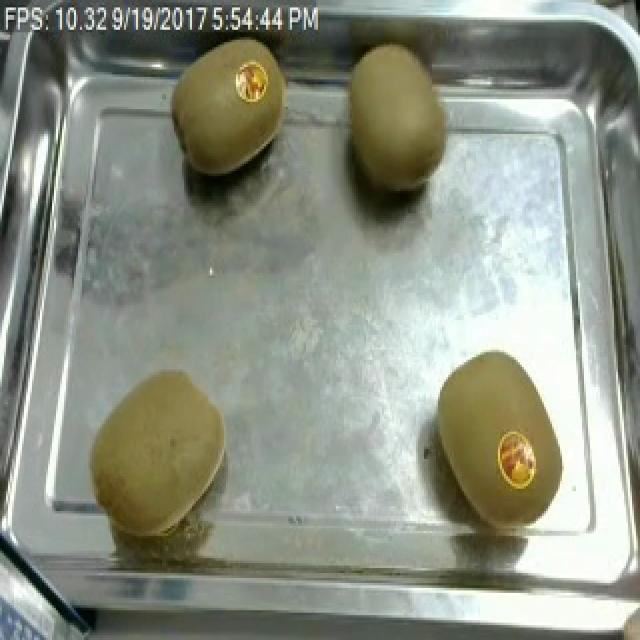Fruit: (80, 357, 236, 546), (426, 342, 574, 531), (328, 30, 460, 208), (162, 25, 292, 188)
